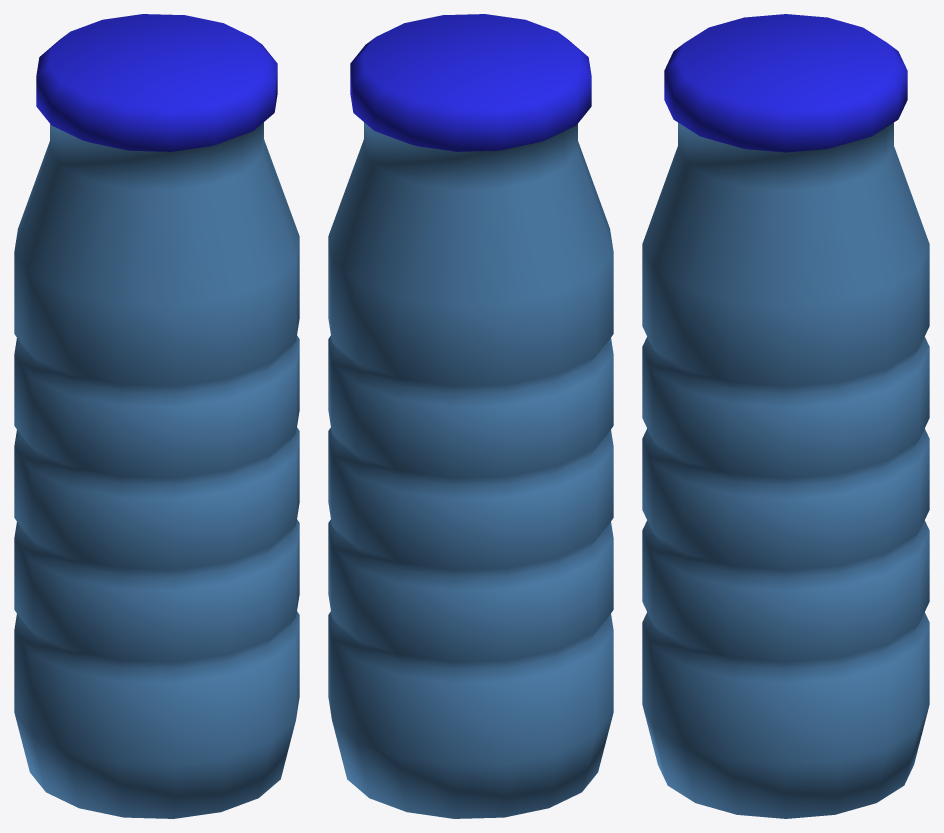
File: PlasticBottle.fbx
3 renders of one model, left to right at view 1: azimuth 30°, elevation 25°; view 2: azimuth 150°, elevation 25°; view 3: azimuth 270°, elevation 25°, orthographic.
Visible parts, largest first — view 1: Cylinder; view 2: Cylinder; view 3: Cylinder.
Boxes of the visible parts, <box> form: Cylinder: <box>14,14,299,818</box>; Cylinder: <box>328,14,613,818</box>; Cylinder: <box>642,14,929,818</box>.
Bounding box in the file's own units: 0.1002 × 0.1002 × 0.2709.
